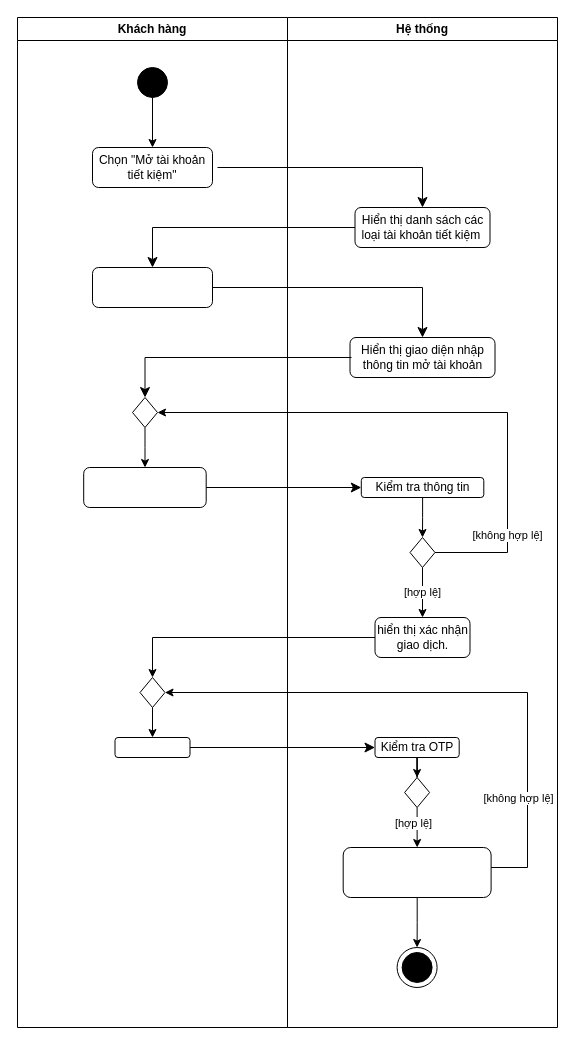
Some shapes in this 575 by 1045 pixel diagram are drawn without their labels. The shapes that lost their labels are listed below. From the top down, each one's centre as x and y in pixels, then its label:
At [152,287]: "Chọn loại tài khoản tiết kiệm".
At [144,487]: "Nhập thông tin và xác nhận mở tài khoản.".
At [152,747]: "Nhập OTP".
At [416,872]: "Thông báo thành công, hiển thị thông tin tài khoản tiết kiệm vừa tạo".
